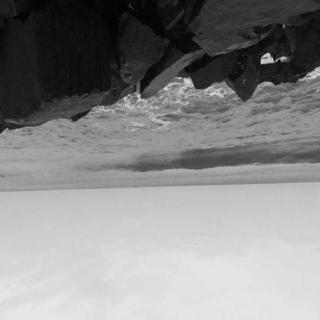other: (126, 86, 216, 136)
